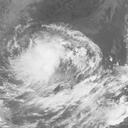cyclone: (10, 23, 75, 87)
